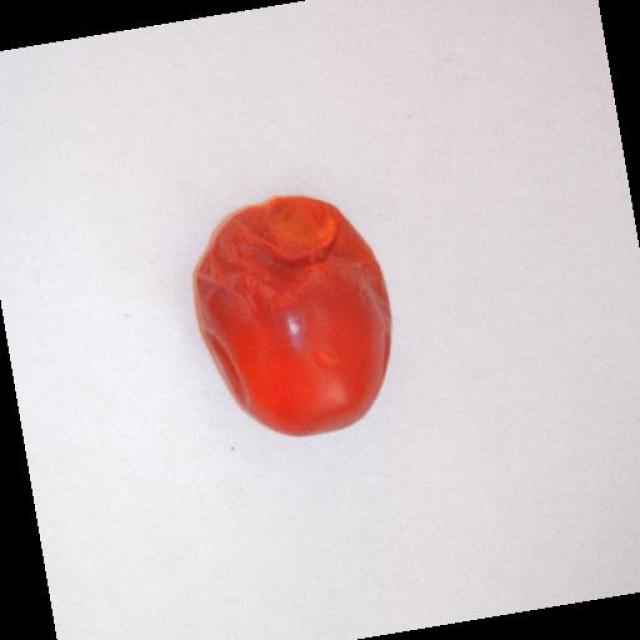Stale_tomato: (163, 180, 405, 451)
